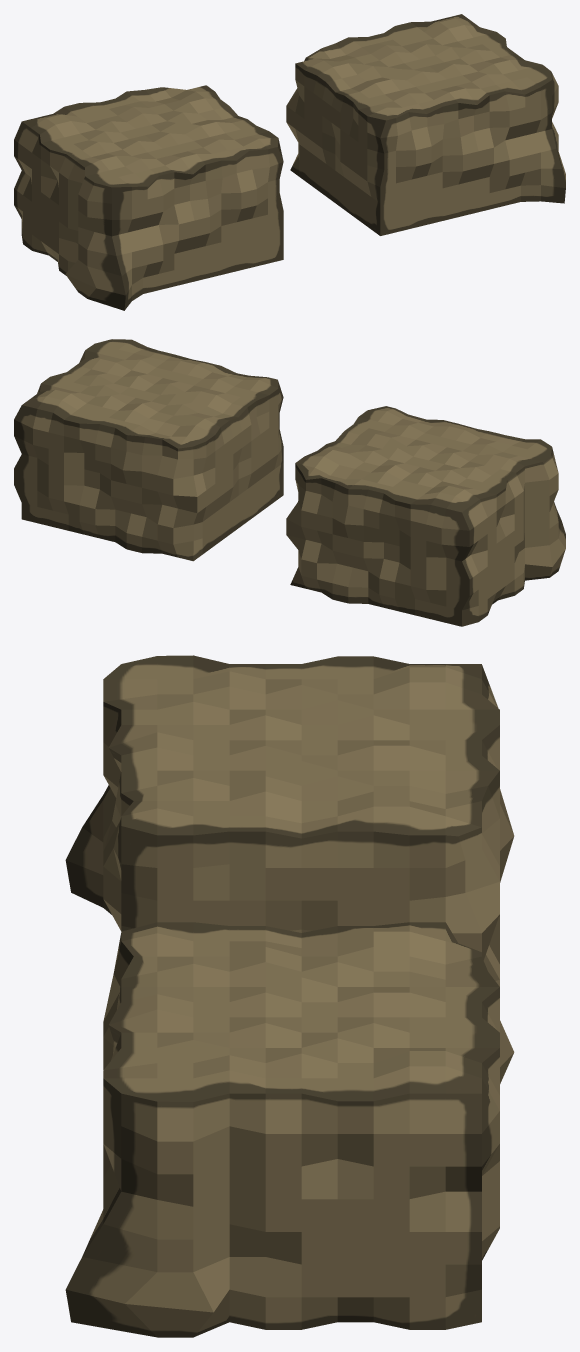
Rendered from A1_Mountainsfbx.fbx.
3 renders of one model, top to bottom at view 1: azimuth 30°, elevation 25°; view 2: azimuth 150°, elevation 25°; view 3: azimuth 270°, elevation 25°, orthographic. The views are drawn at different scales.
Visible parts, largest first — view 1: A1_Mountain.002; view 2: A1_Mountain.002; view 3: A1_Mountain.002.
Part boxes in pixels (x1,y1,x2,y2): A1_Mountain.002: (14,14,565,310); A1_Mountain.002: (14,339,565,626); A1_Mountain.002: (65,655,514,1337).
Bounding box in the file's own units: 3121 × 737 × 1245.
1 material, 1 textured.
